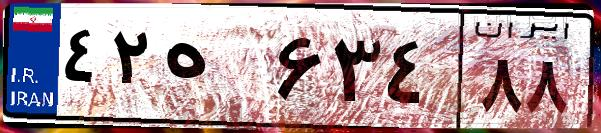2: (110, 28, 158, 98)
3: (330, 28, 385, 110)
4: (385, 28, 445, 110), (57, 26, 110, 100)
6: (270, 28, 330, 110)
8: (475, 38, 525, 113), (525, 38, 570, 115)
ه: (158, 20, 270, 120)
